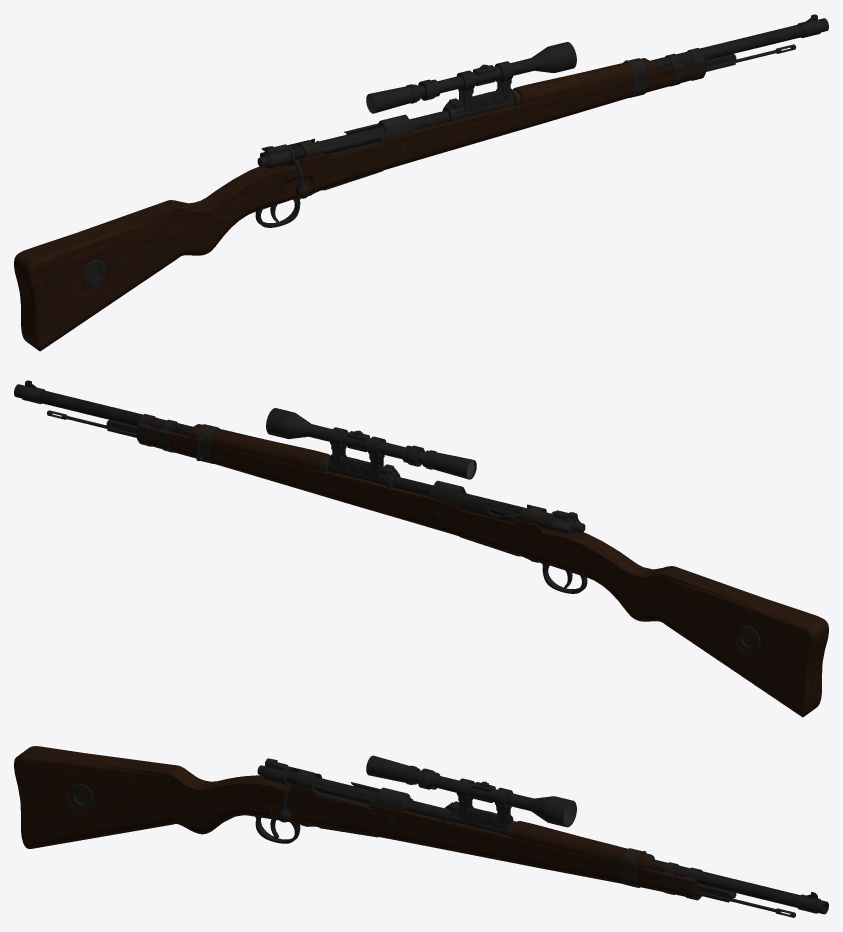
File: Kar98k.glb
3 views of the same model, one above another, from view 1: azimuth 30°, elevation 25°; view 2: azimuth 150°, elevation 25°; view 3: azimuth 330°, elevation 25° (orthographic).
Visible parts, largest first — view 1: Corpo, Cano, Mira (5) (1), Corpo 2, Body3 (×2), Mira (3), Mira (2) (1), Body2, Gatilho; view 2: Corpo, Mira (5) (1), Cano, Corpo 2, Body3 (×2), Mira (3), Mira (2) (1), Body2, Gatilho; view 3: Corpo, Cano, Mira (5) (1), Corpo 2, Body3 (×2), Mira (3), Body2 (×2), Mira (2) (1), Gatilho, Body1, Body5, Carregador (+2 smaller).
Part boxes in pixels (x1,y1,x2,y2): Corpo: (14,60,706,351); Cano: (313,18,828,148); Mira (5) (1): (366,42,576,113); Corpo 2: (513,58,654,105); Body3 (×2): (326,44,796,156); Mira (3): (456,61,513,111); Mira (2) (1): (665,48,705,86); Body2: (257,144,295,168); Gatilho: (255,170,383,227); Corpo: (136,426,828,717); Mira (5) (1): (266,408,476,479); Cano: (14,384,529,514); Corpo 2: (188,424,329,471); Body3 (×2): (47,410,517,522); Mira (3): (329,427,386,477); Mira (2) (1): (137,414,177,452); Body2: (547,510,585,534); Gatilho: (459,536,587,593); Corpo: (14,746,699,898); Cano: (311,776,828,914); Mira (5) (1): (366,755,576,827); Corpo 2: (511,821,654,869); Body3 (×2): (319,782,795,917); Mira (3): (456,778,512,828); Body2 (×2): (257,758,312,822); Mira (2) (1): (662,862,702,900); Gatilho: (250,815,378,843); Body1: (621,848,646,887); Body5: (69,783,94,810); Carregador: (313,784,375,804).
Size of the model in its own units: 0.8479 by 0.1757 by 0.0403.
6 materials, 4 textured.
